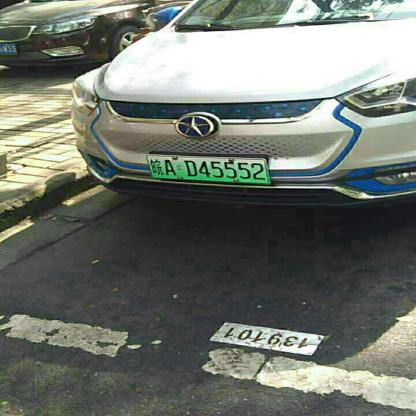lp: (146, 155, 268, 182)
